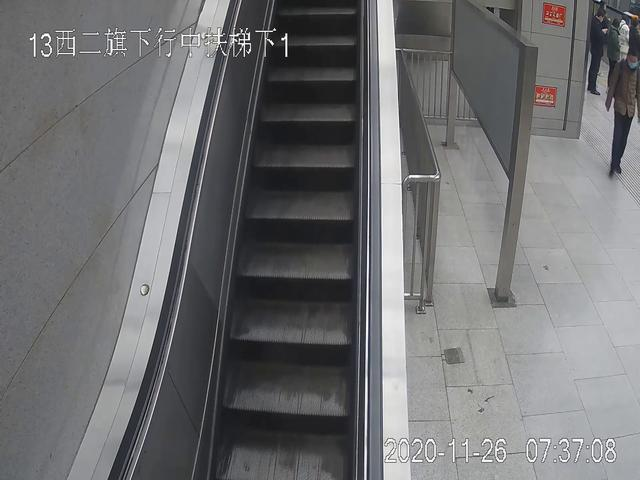person: (606, 50, 640, 177), (589, 9, 607, 95)
